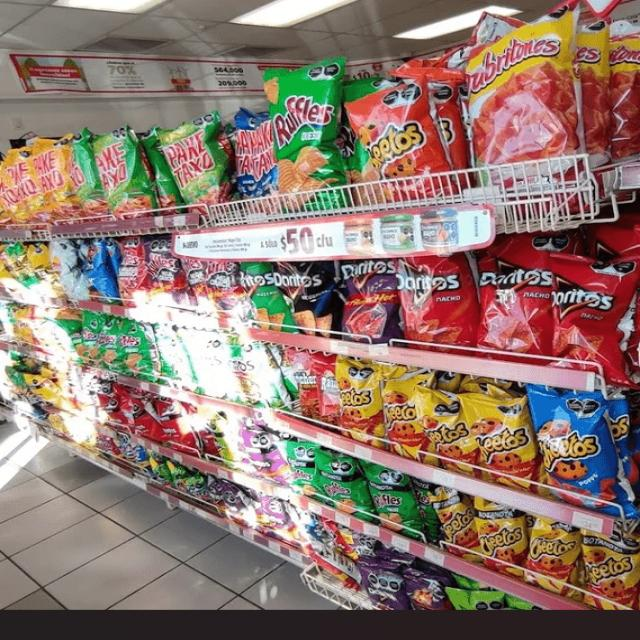cheetosOriginal: (346, 98, 451, 188)
doritosNacho: (552, 274, 626, 366), (475, 260, 542, 353), (398, 260, 463, 346)
rufflesQueso: (264, 75, 333, 197)
